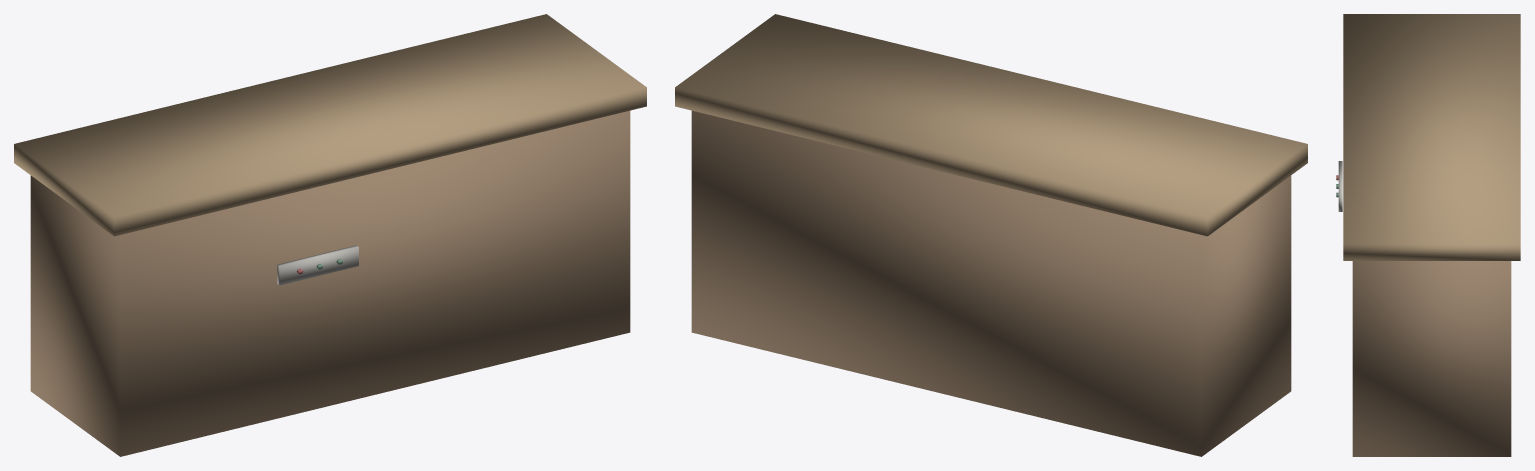
The model's file is clinic_reception_counter__wide.glb.
3 views of the same model, side by side, from view 1: azimuth 30°, elevation 25°; view 2: azimuth 150°, elevation 25°; view 3: azimuth 270°, elevation 25° (orthographic). The views are drawn at different scales.
Visible parts, largest first — view 1: world; view 2: world; view 3: world.
Boxes of the visible parts, left/top/right/bottom form: world: left=14, top=14, right=646, bottom=456; world: left=675, top=14, right=1307, bottom=456; world: left=1336, top=14, right=1520, bottom=456.
Bounding box in the file's own units: 2.33 × 1.03 × 0.791.
